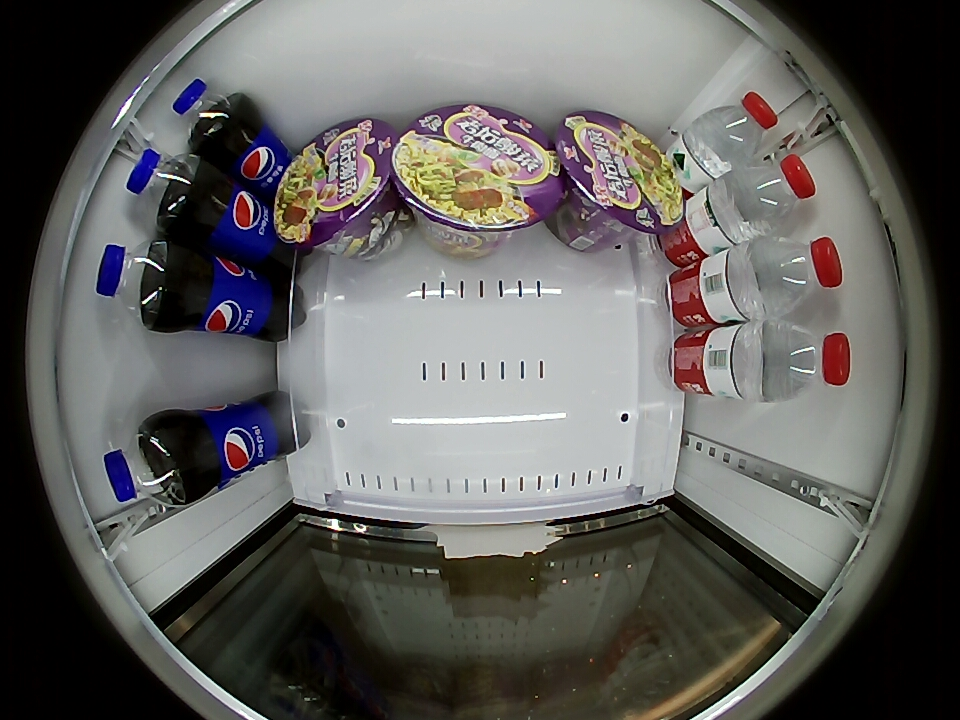baishikele-2: (103, 420, 188, 504), (95, 239, 176, 325), (125, 149, 202, 225), (172, 78, 242, 148)
laotansuancai: (390, 104, 565, 240), (556, 111, 686, 237), (272, 118, 396, 250)
nongfushanquan: (762, 321, 852, 400), (757, 235, 842, 313), (734, 153, 816, 232), (700, 92, 779, 166)
